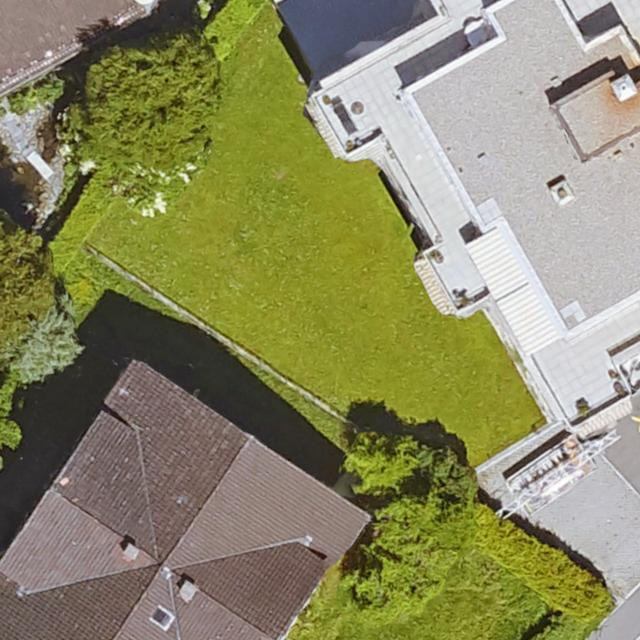tree: (342, 432, 482, 613), (68, 34, 219, 184), (0, 219, 62, 368)
